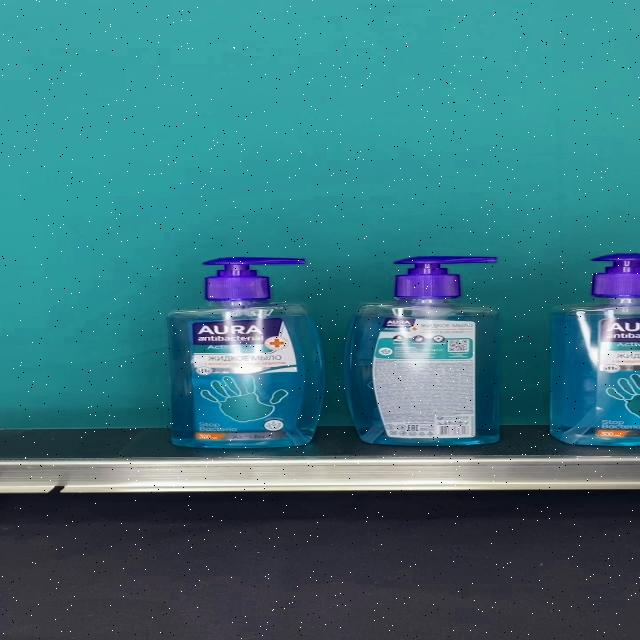Bottle: (166, 257, 326, 448), (345, 257, 501, 446)
Cap: (204, 257, 305, 300), (395, 258, 499, 298)
